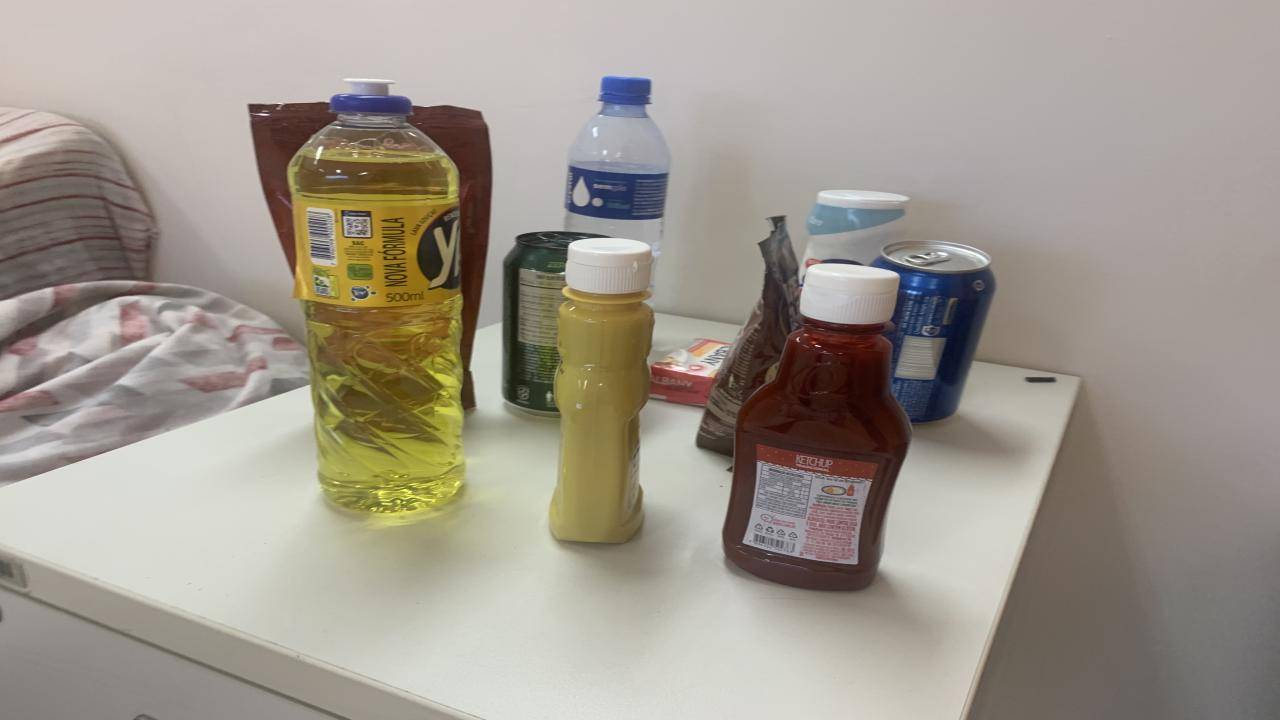Cleaner-Cleanup_Items: (800, 189, 910, 278)
Coffee-Pantry_Items: (698, 216, 800, 456)
Detergent-Cleanup_Items: (288, 79, 465, 512)
Guarana_Can-Drinks: (502, 232, 605, 414)
Ketchup-Pantry_Items: (722, 264, 912, 591)
Mustard-Pantry_Items: (550, 238, 655, 542)
Soap-Cleanup_Items: (650, 338, 730, 405)
Tomato_Sauce-Pantry_Items: (408, 105, 492, 409), (248, 103, 335, 272)
Tonic-Drinks: (872, 240, 995, 422)
Water_Bottle-Drinks: (565, 77, 670, 257)
